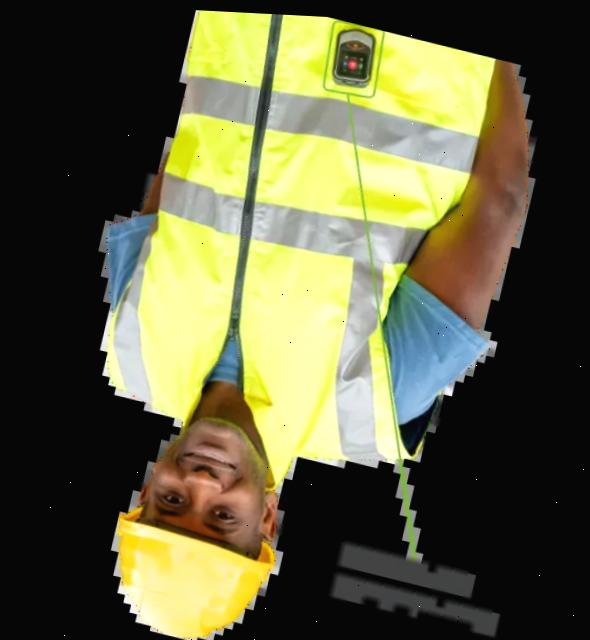helmet: (94, 501, 280, 640)
vest: (97, 4, 486, 475)
